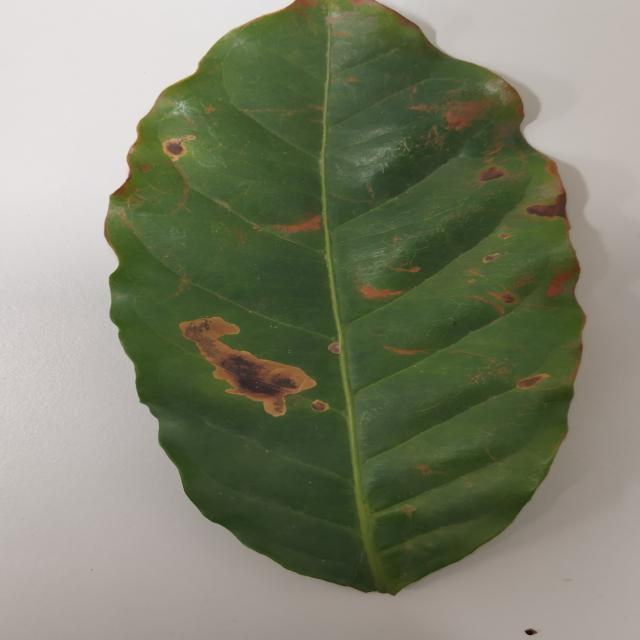Plaga-Minador: (103, 0, 587, 598)
